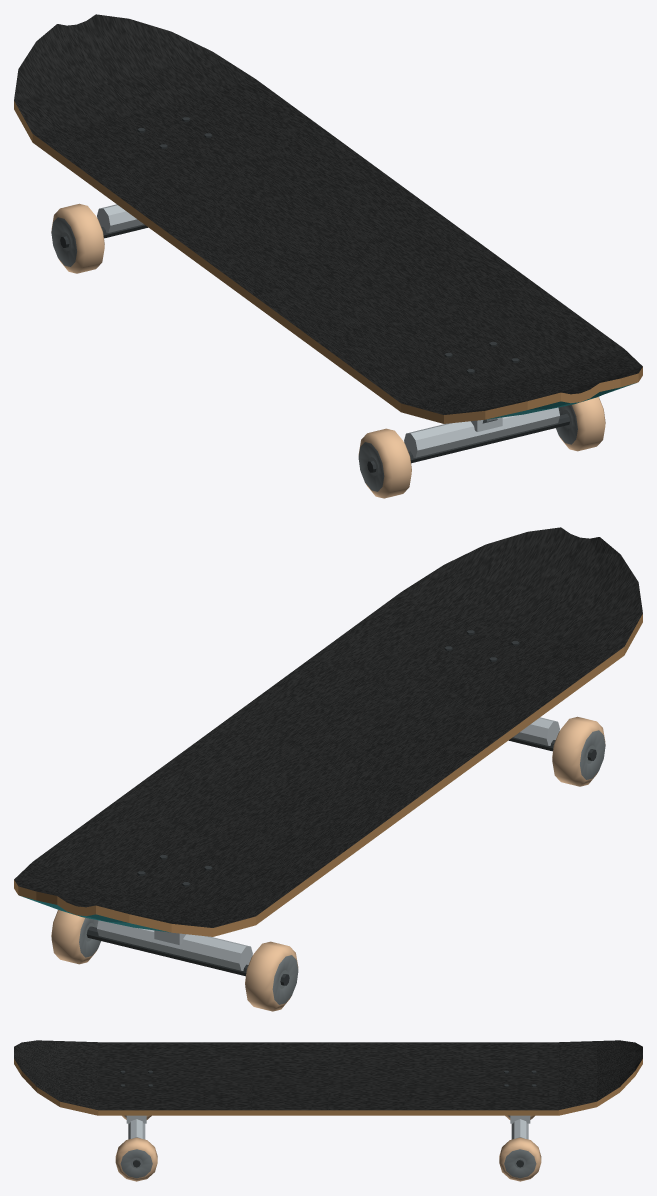
The model's file is 05_Tidal_Check.glb.
3 renders of one model, top to bottom at view 1: azimuth 30°, elevation 25°; view 2: azimuth 150°, elevation 25°; view 3: azimuth 270°, elevation 25°, orthographic. The views are drawn at different scales.
Parts seen in each view (by area): view 1: Deck_Tidal_Check, Truck_Rear_Tidal_Check, Wheel_FrontL_Tidal_Check, Wheel_RearL_Tidal_Check, Wheel_RearR_Tidal_Check, Truck_Front_Tidal_Check; view 2: Deck_Tidal_Check, Truck_Front_Tidal_Check, Wheel_RearL_Tidal_Check, Wheel_FrontL_Tidal_Check, Wheel_FrontR_Tidal_Check, Truck_Rear_Tidal_Check; view 3: Deck_Tidal_Check, Wheel_FrontR_Tidal_Check, Wheel_RearR_Tidal_Check, Truck_Front_Tidal_Check, Truck_Rear_Tidal_Check.
Boxes of the visible parts, x1=… form: Deck_Tidal_Check: x1=14, y1=14, x2=642, y2=423; Truck_Rear_Tidal_Check: x1=367, y1=407, x2=570, y2=472; Wheel_FrontL_Tidal_Check: x1=51, y1=203, x2=104, y2=273; Wheel_RearL_Tidal_Check: x1=358, y1=428, x2=411, y2=498; Wheel_RearR_Tidal_Check: x1=556, y1=397, x2=605, y2=451; Truck_Front_Tidal_Check: x1=60, y1=204, x2=148, y2=247; Deck_Tidal_Check: x1=14, y1=527, x2=642, y2=936; Truck_Front_Tidal_Check: x1=86, y1=920, x2=289, y2=985; Wheel_RearL_Tidal_Check: x1=552, y1=716, x2=605, y2=786; Wheel_FrontL_Tidal_Check: x1=245, y1=941, x2=298, y2=1011; Wheel_FrontR_Tidal_Check: x1=51, y1=910, x2=100, y2=964; Truck_Rear_Tidal_Check: x1=508, y1=717, x2=596, y2=760; Deck_Tidal_Check: x1=14, y1=1040, x2=642, y2=1115; Wheel_FrontR_Tidal_Check: x1=499, y1=1137, x2=541, y2=1181; Wheel_RearR_Tidal_Check: x1=115, y1=1137, x2=157, y2=1181; Truck_Front_Tidal_Check: x1=508, y1=1115, x2=530, y2=1167; Truck_Rear_Tidal_Check: x1=125, y1=1115, x2=146, y2=1167.
Bounding box in the file's own units: 0.21 × 0.139 × 0.82.
8 materials, 2 textured.
